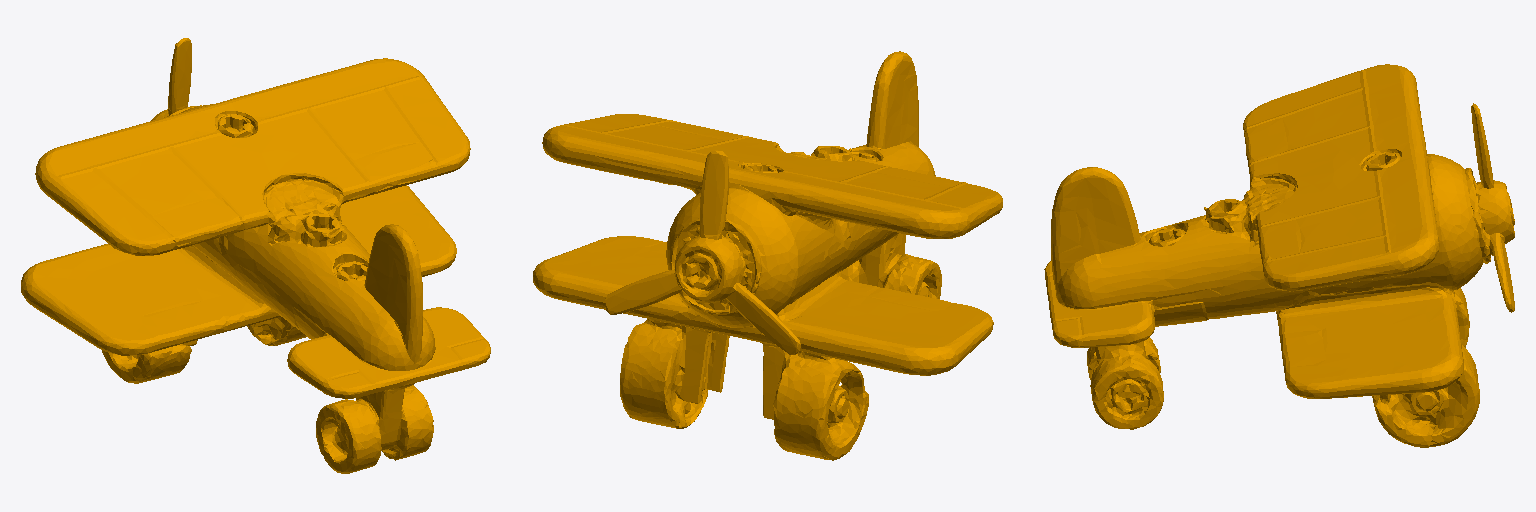
The robot description file, URDF, robot "072-a_toy_airplane":
<?xml version="1.0" ?>
<robot name="072-a_toy_airplane">
  <link name="base_link">
    <inertial>
      <mass value="0.6385413702222174"/>
      <origin rpy="0.0715  -1.43694 -1.58489" xyz="0.03641 0.02111 0.08523"/>
      <inertia ixx="0.004448963631594207" ixy="-1.1624738275041307e-20" ixz="2.137960277751723e-19" iyy="0.0035566842393737657" iyz="-5.545044284453274e-20" izz="0.003109709892472095"/>
    </inertial>
    <collision name="072-a_toy_airplane__collision">
      <origin rpy="0 0 0" xyz="0 0 0"/>
      <geometry>
        <mesh filename="./072-a_toy_airplane_250_collision.stl" scale="1.0 1.0 1.0"/>
      </geometry>
    </collision>
    <visual name="072-a_toy_airplane__visual">
      <origin rpy="0 0 0" xyz="0 0 0"/>
      <geometry>
        <mesh filename="./textured.obj" scale="1.0 1.0 1.0"/>
      </geometry>
    </visual>
  </link>
</robot>

--- Facts derived from the render (not from the file) ---
3 views of the same robot in one strip: view 1: azimuth 30°, elevation 25°; view 2: azimuth 150°, elevation 25°; view 3: azimuth 270°, elevation 25° (orthographic).
Model 072-a_toy_airplane with 1 links and 0 joints (none), rooted at base_link, posed every joint at zero.
Links seen in each view (by area): view 1: base_link; view 2: base_link; view 3: base_link.
Link boxes in pixels (bbox=[...]): base_link: bbox=[21, 38, 490, 473]; base_link: bbox=[533, 51, 1002, 460]; base_link: bbox=[1044, 64, 1514, 447].
Bounding box of the posed robot: 0.2552 × 0.2629 × 0.1834 m (x, y, z).
Meshes: 1 distinct files referenced, 1 mesh visuals loaded (1 OBJ).